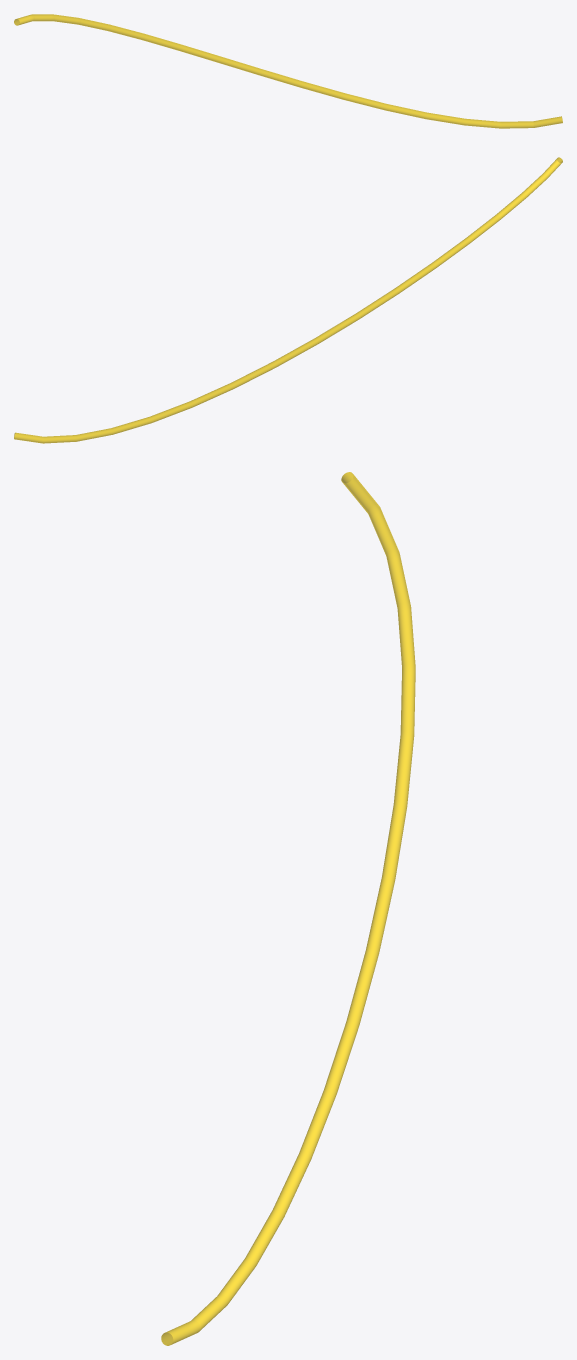
The model's file is Event_84804159_track_93.fbx.
3 renders of one model, top to bottom at view 1: azimuth 30°, elevation 25°; view 2: azimuth 210°, elevation 25°; view 3: azimuth 270°, elevation 25°, orthographic. The views are drawn at different scales.
Visible parts, largest first — view 1: Model; view 2: Model; view 3: Model.
Part boxes in pixels (x1,y1,x2,y2): Model: (14,14,562,128); Model: (14,157,562,443); Model: (161,472,415,1345).
Bounding box in the file's own units: 3.38 × 1.27 × 0.7402.
